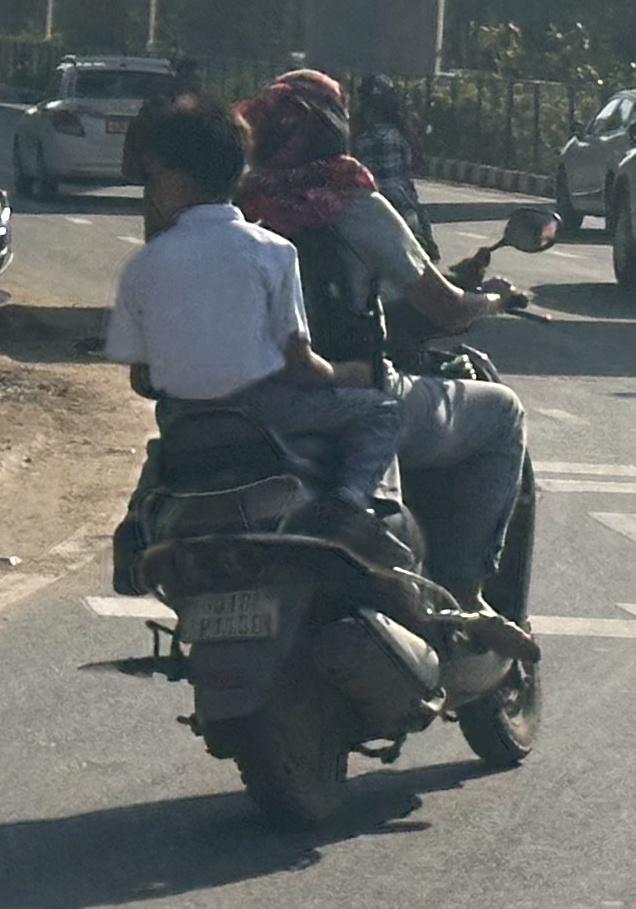BikeWithRider: (76, 58, 573, 840)
NoHelmet: (115, 87, 260, 244), (233, 61, 361, 182)
